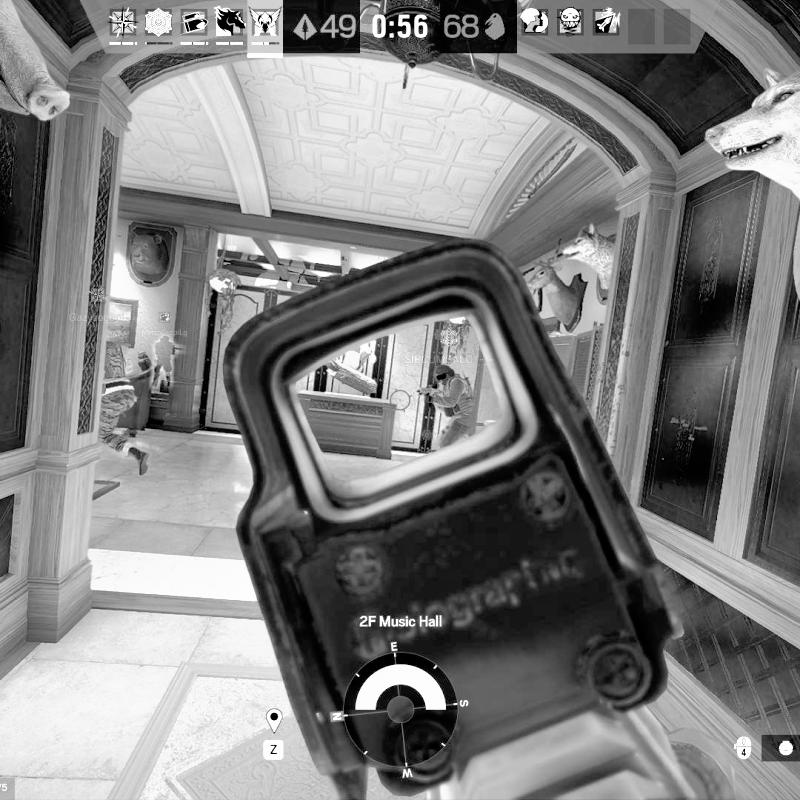Character: (84, 335, 153, 478), (416, 362, 476, 454)
Friend_label: (402, 328, 492, 366), (67, 284, 131, 324), (142, 310, 189, 338), (248, 499, 249, 500)
Head: (432, 364, 454, 385)
